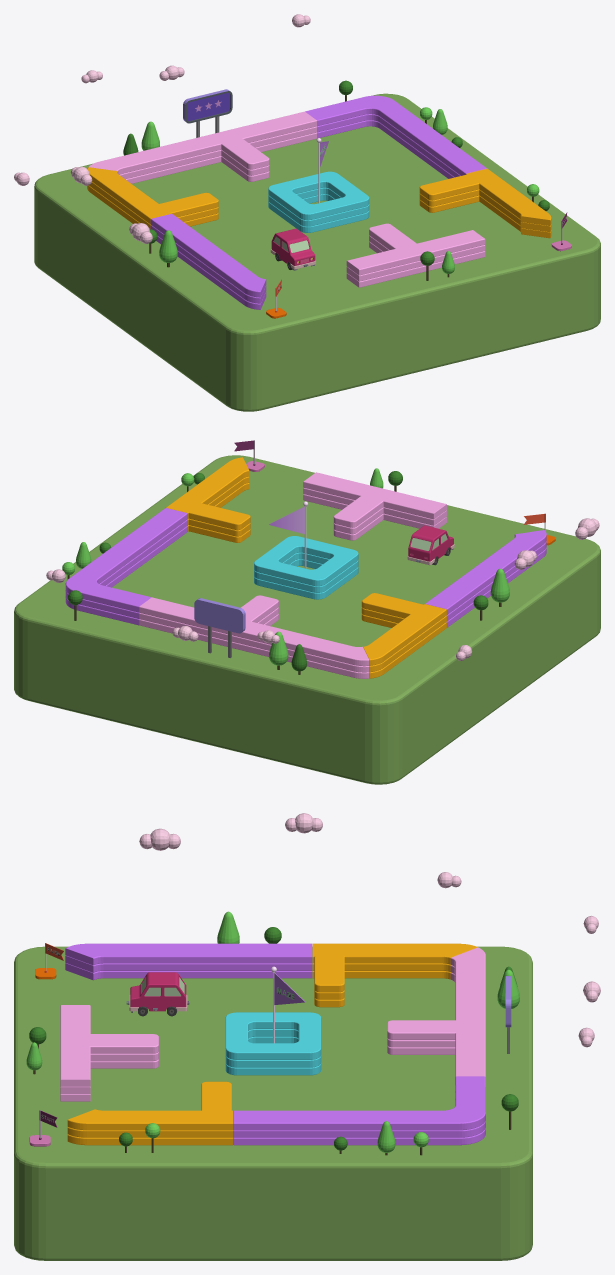
File: stage_15_uv.fbx
3 views of the same model, one above another, from view 1: azimuth 30°, elevation 25°; view 2: azimuth 150°, elevation 25°; view 3: azimuth 270°, elevation 25° (orthographic). The views are drawn at different scales.
Parts seen in each view (by area): view 1: bg_1, maze, Cube_1, trees, cloud_1, small_billboard_1, nomal_car_body_1; view 2: bg_1, maze, Cube_1, trees, cloud_1, small_billboard_1, nomal_car_body_1, Flag_1; view 3: bg_1, maze, Cube_1, trees, cloud_1, nomal_car_body_1, Flag_1.
Boxes of the visible parts, x1,y1,x2,y2 form: bg_1: [34, 93, 600, 411]; maze: [87, 95, 551, 309]; Cube_1: [268, 171, 369, 232]; trees: [123, 80, 549, 280]; cloud_1: [14, 14, 310, 243]; small_billboard_1: [183, 89, 232, 137]; nomal_car_body_1: [270, 228, 315, 269]; bg_1: [14, 455, 600, 784]; maze: [65, 457, 546, 678]; Cube_1: [254, 536, 358, 599]; trees: [62, 468, 509, 674]; cloud_1: [46, 518, 599, 660]; small_billboard_1: [194, 598, 245, 657]; nomal_car_body_1: [407, 525, 454, 565]; Flag_1: [269, 501, 308, 568]; bg_1: [14, 946, 532, 1260]; maze: [60, 943, 485, 1145]; Cube_1: [225, 1012, 321, 1075]; trees: [26, 911, 519, 1155]; cloud_1: [139, 813, 600, 1047]; nomal_car_body_1: [129, 972, 187, 1011]; Flag_1: [271, 966, 304, 1043].
Size of the model in its own units: 1460 by 571 by 1471.
Materials: 16 (16 with a texture image).
